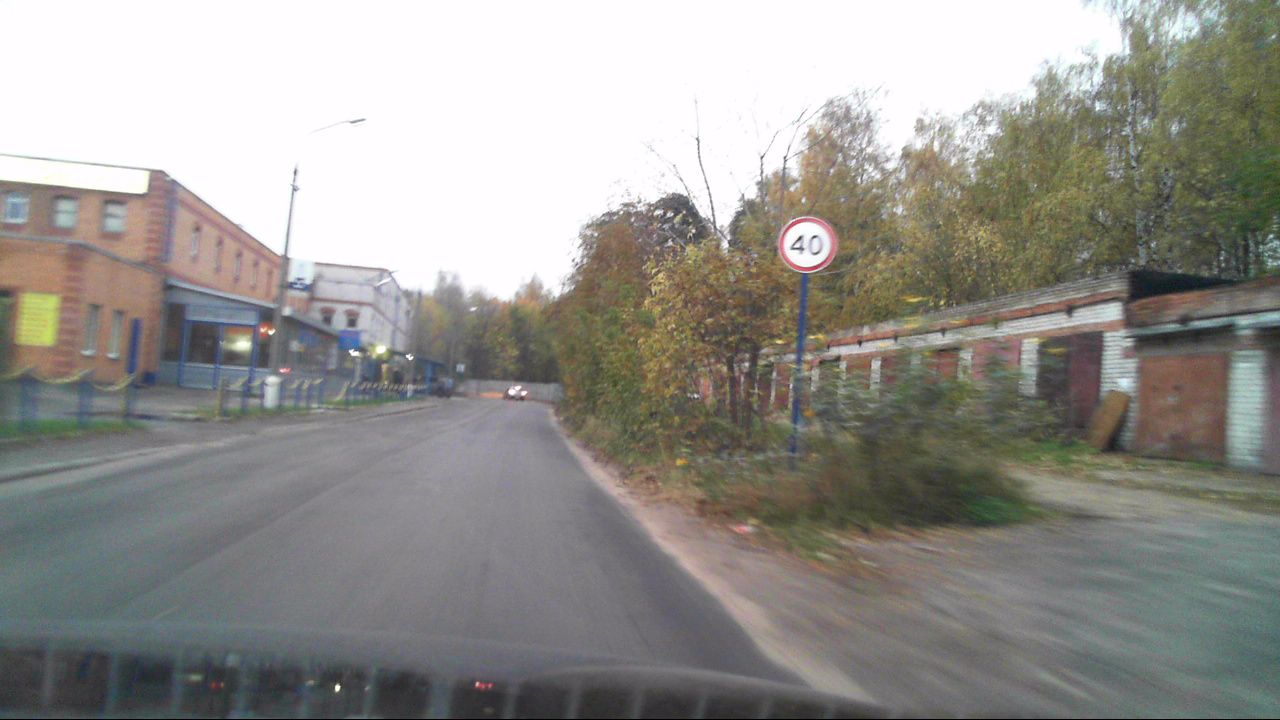speed_warning_40: (777, 217, 833, 273)
